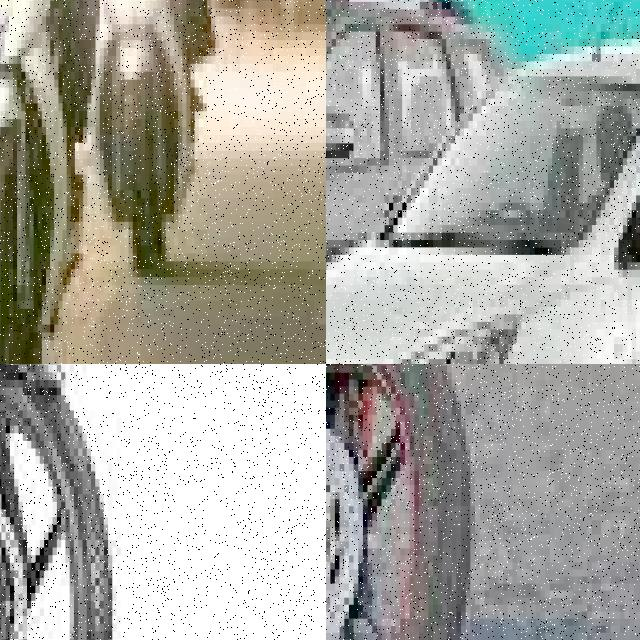bike: (326, 364, 493, 640), (87, 0, 215, 301), (0, 364, 116, 640), (0, 0, 87, 364)
car: (326, 16, 640, 364)
